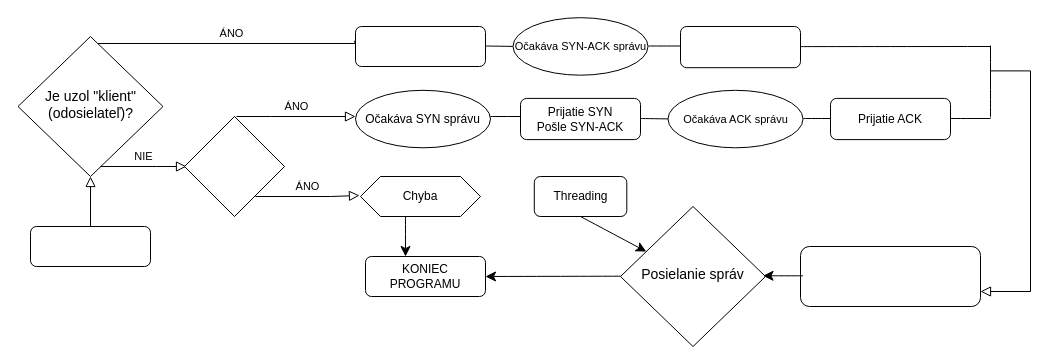
Some shapes in this 1058 by 364 pixel diagram are drawn without their labels. Each missing label, with the box of its shape:
Je uzol "server" (príjmateľ)?: (184, 116, 284, 216)
Pošle SYN správu: (354, 26, 486, 66)
Prijatie SYN-ACK Pošle ACK: (680, 26, 800, 68)
Spojenie kompletné: (800, 246, 980, 306)
ŠTART: (30, 226, 150, 266)
